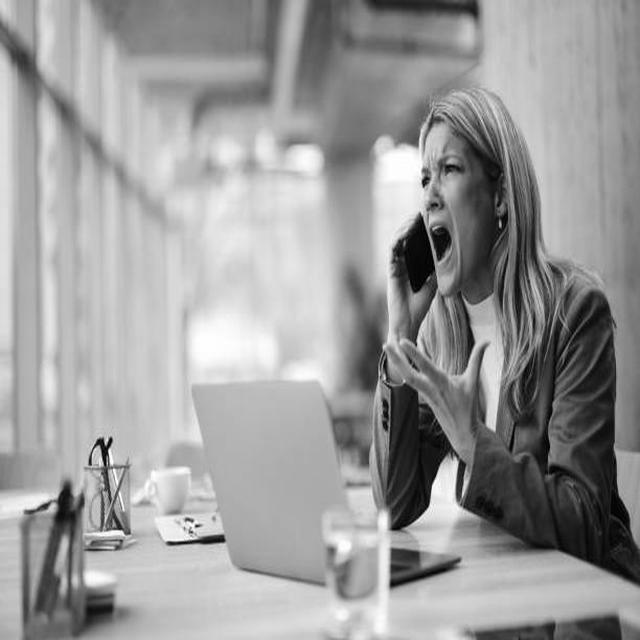Angry: (419, 123, 494, 298)
